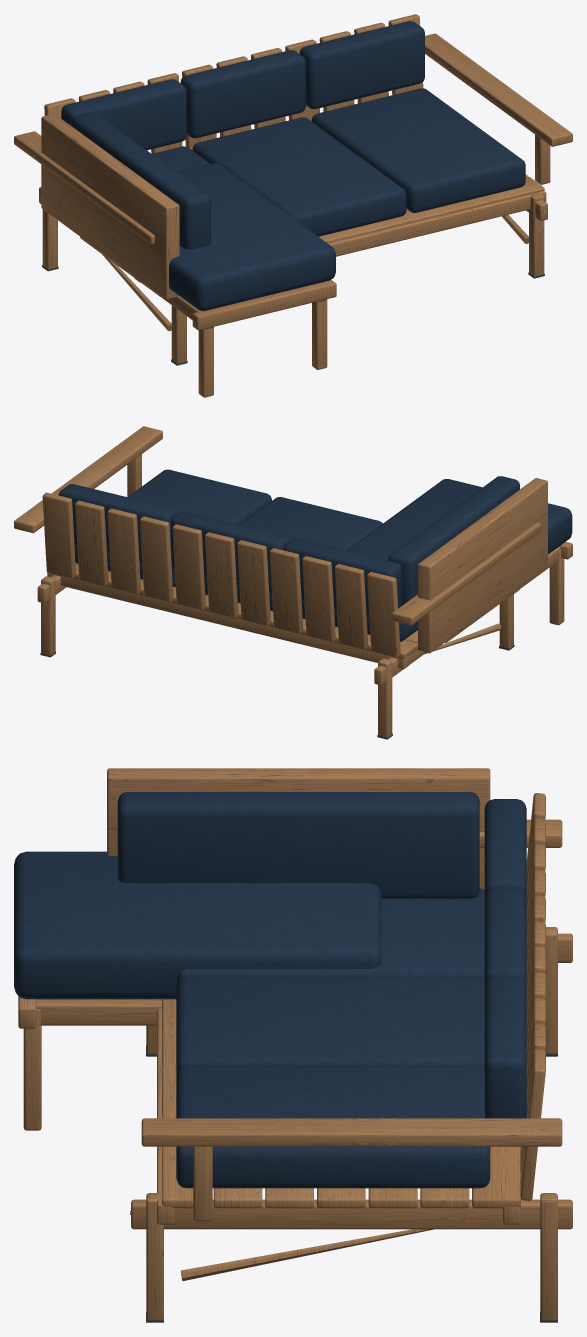
Rendered from patio-corner-sofa.glb.
3 renders of one model, top to bottom at view 1: azimuth 30°, elevation 25°; view 2: azimuth 150°, elevation 25°; view 3: azimuth 270°, elevation 25°, orthographic. The views are drawn at different scales.
Visible parts, largest first — view 1: patio-corner-sofa authored assembly; view 2: patio-corner-sofa authored assembly; view 3: patio-corner-sofa authored assembly.
Part boxes in pixels (left/top/right/bottom): patio-corner-sofa authored assembly: left=14, top=14, right=572, bottom=397; patio-corner-sofa authored assembly: left=14, top=426, right=572, bottom=739; patio-corner-sofa authored assembly: left=14, top=768, right=572, bottom=1322.
Size of the model in its own units: 2.2 by 0.86 by 1.65.
Materials: 5 (2 with a texture image).
